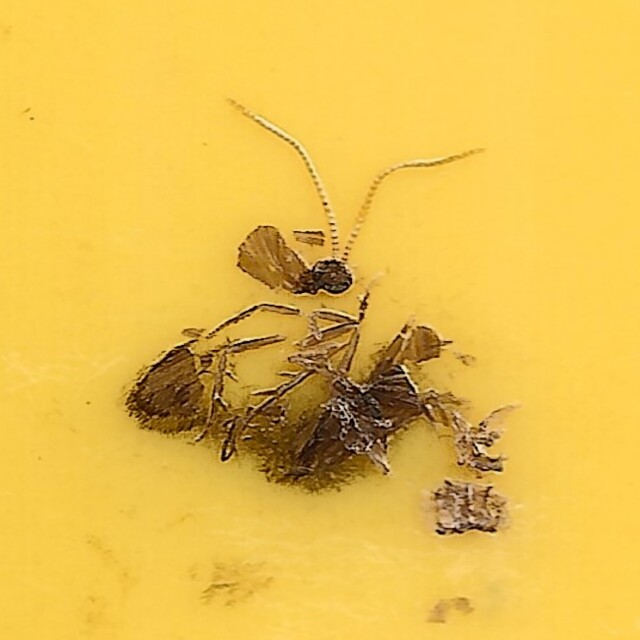Trichoptera: (119, 98, 521, 542)
